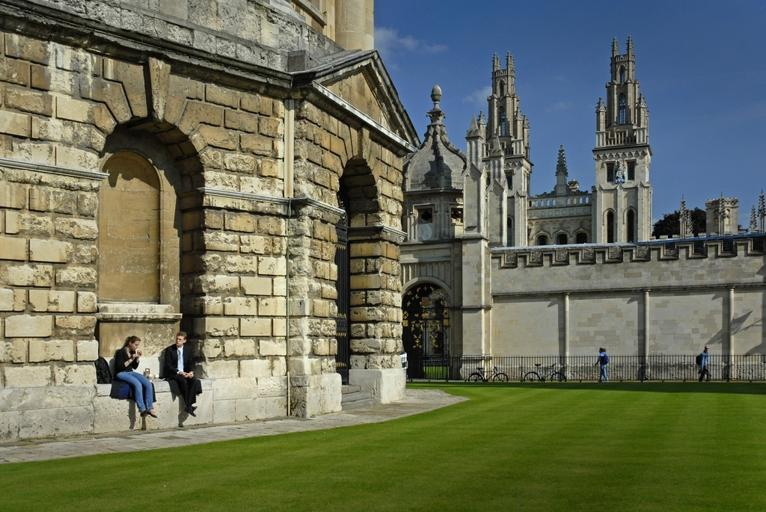non-vehicle: (522, 360, 566, 382), (466, 364, 508, 381)
